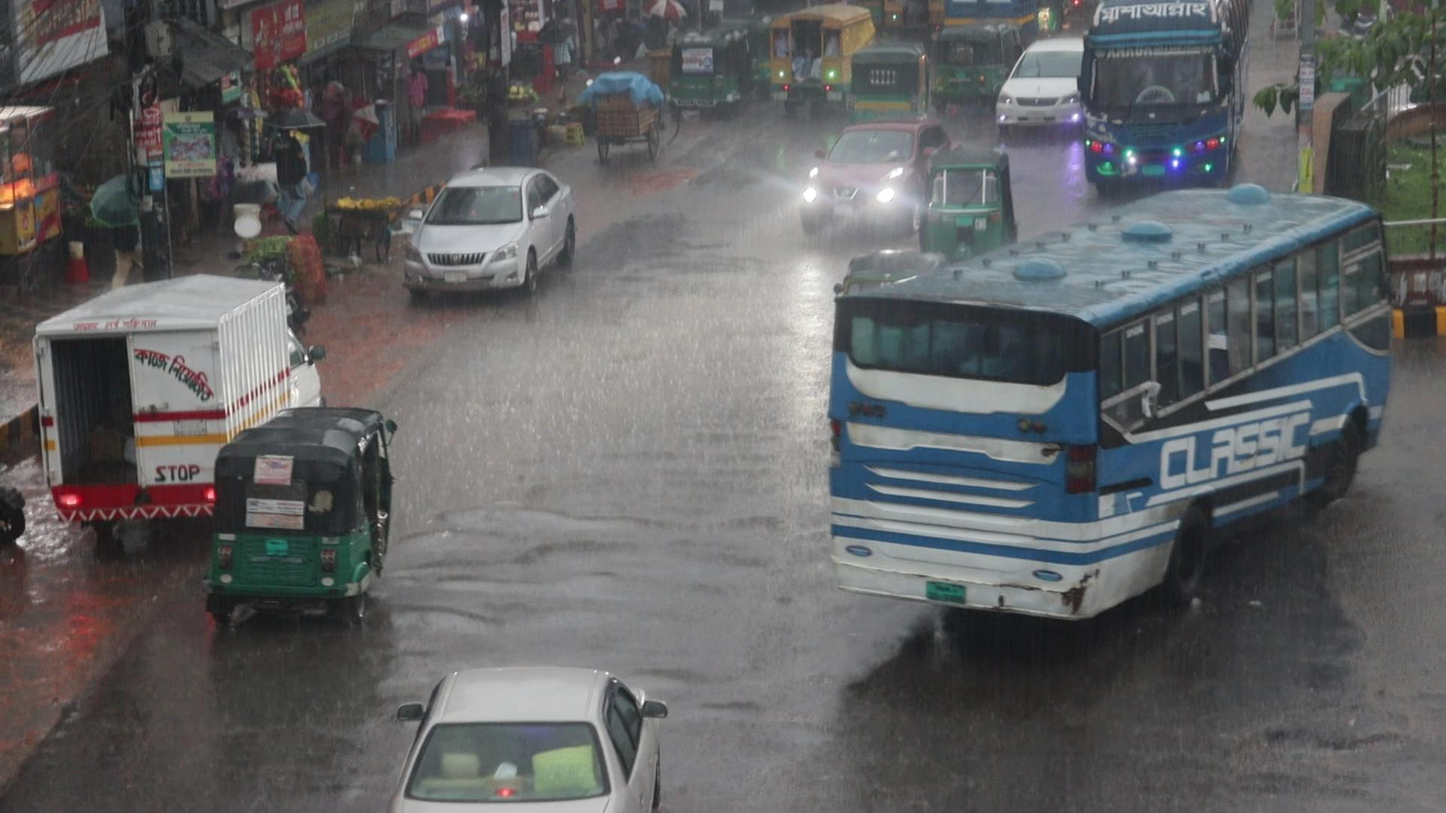Bus: (818, 180, 1401, 633), (1075, 0, 1253, 183)
Car: (383, 657, 670, 813), (799, 117, 922, 234), (994, 36, 1084, 137)
